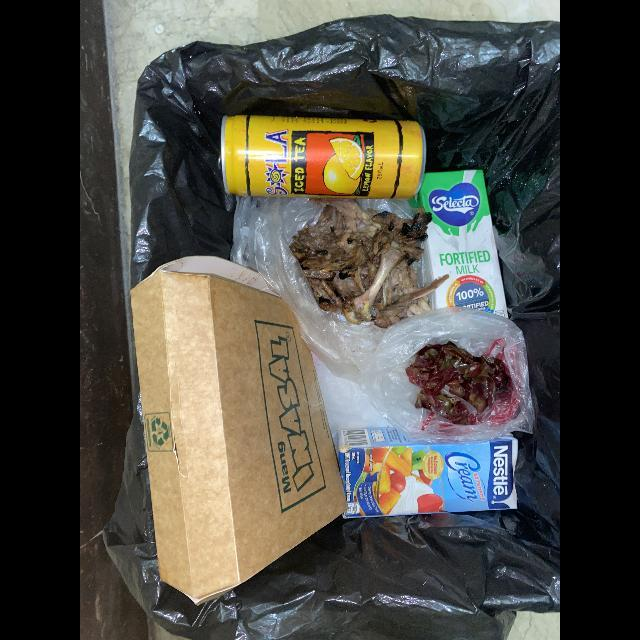biowaste: (289, 200, 449, 329), (406, 342, 510, 425)
metal: (220, 115, 427, 202)
paper: (130, 257, 348, 606), (333, 427, 518, 519), (410, 169, 509, 319)
plastic: (229, 197, 449, 384), (362, 310, 535, 442)
